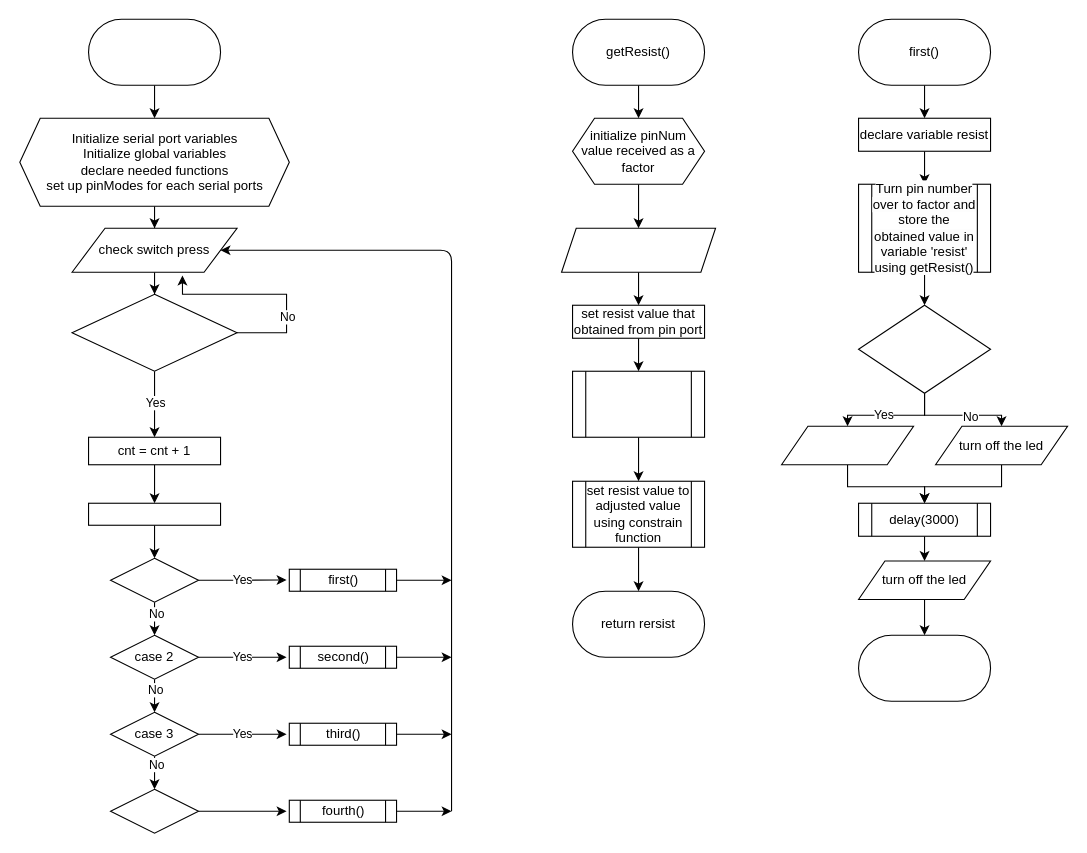
Image size: 1087x853. Some labels were removed from this diagram. The shapes that lost their labels are listed below. From the top down, each one's box as (x1, y1, x2, y2) in pixels, then its label:
(87, 18, 221, 85): Start
(560, 227, 716, 272): read value from designated pin port
(71, 293, 237, 371): Is switch pressed?
(857, 304, 991, 393): resist < 127 ?
(571, 370, 705, 437): set resist value to adjusted value using map function
(780, 425, 914, 465): turn on the led
(87, 502, 221, 525): switch (cnt)
(109, 557, 199, 602): case 1
(857, 634, 991, 701): return
(109, 788, 199, 833): case 4
